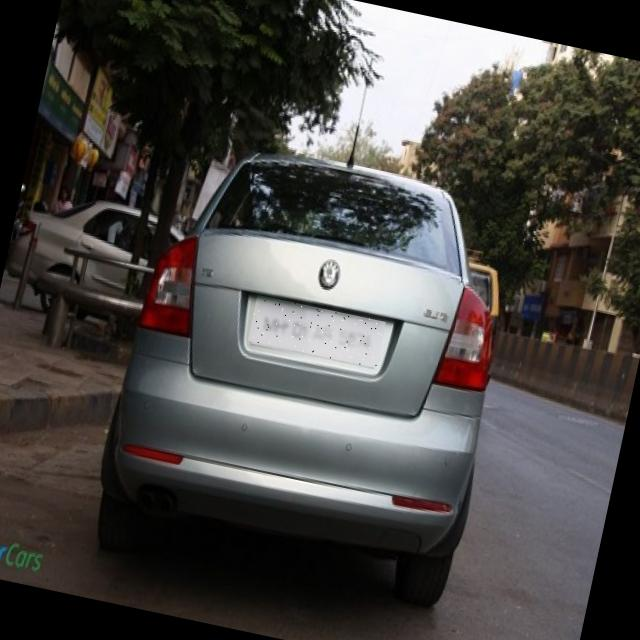Plate: (248, 296, 386, 369)
